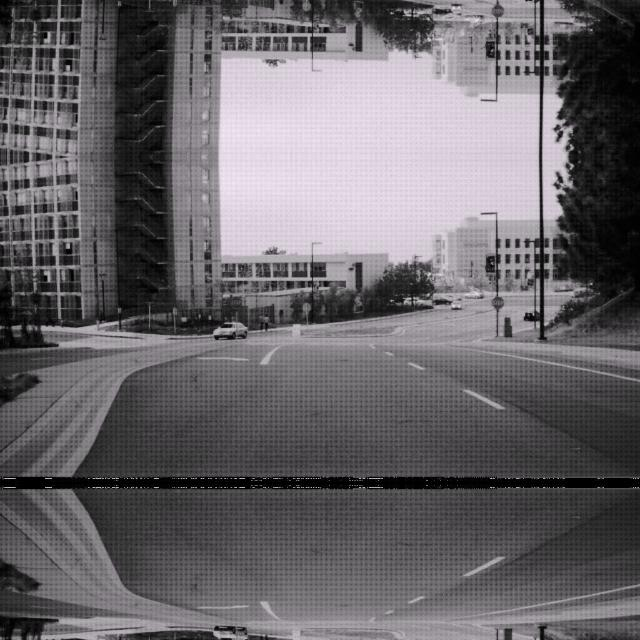stop: (228, 294, 242, 308), (228, 4, 242, 18), (492, 294, 504, 310), (492, 2, 504, 18)
